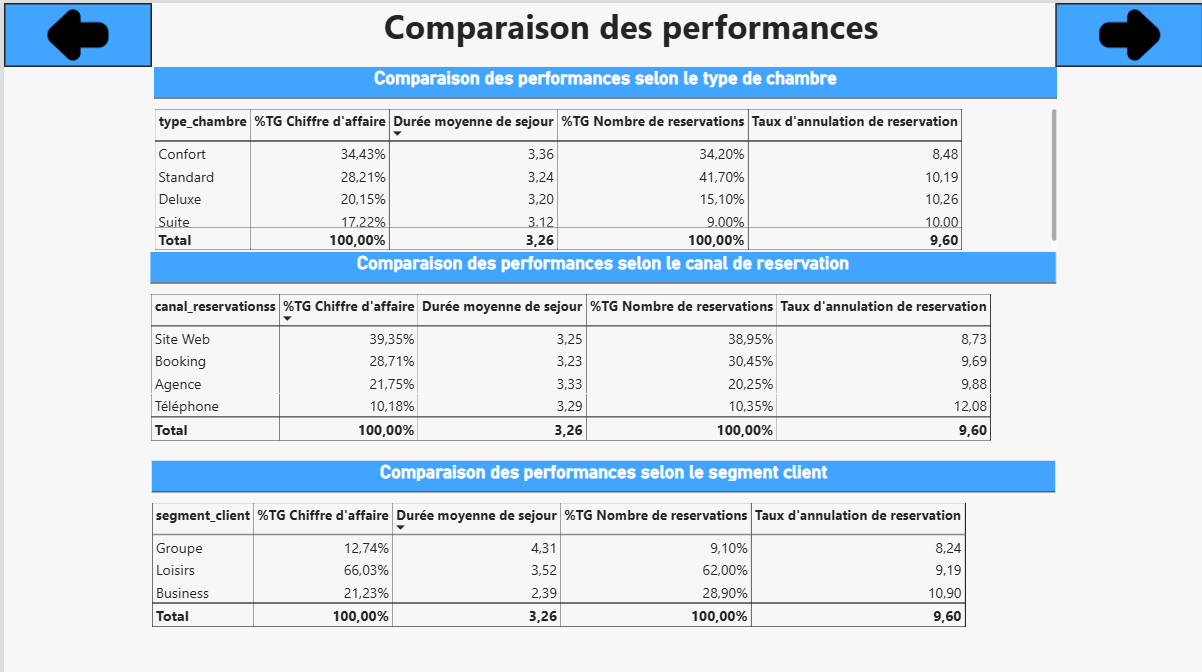

What the dashboard file says about the page in this screenshot:
{"tool":"powerbi","page":{"name":"Performance","canvas":[1920,1080],"ordinal":2},"visuals":[{"type":"tableEx","title":"Comparaison des performances selon le type de chambre","fields":{"Values":["public chambres.type_chambre","public reservations.Chiffre d'affaire","public reservations.Durée moyenne de sejour","public reservations.Nombre de reservations","public reservations.Taux d'annulation de reservation"]},"box":[238.7,102.9,1444.6,294.3],"z":0},{"type":"tableEx","title":"Comparaison des performances selon le canal de reservation","fields":{"Values":["public reservations.canal_reservationss","public reservations.Chiffre d'affaire","public reservations.Durée moyenne de sejour","public reservations.Nombre de reservations","public reservations.Taux d'annulation de reservation"]},"box":[234.6,397.2,1448.7,335.4],"z":1000},{"type":"tableEx","title":"Comparaison des performances selon le segment client","fields":{"Values":["public clients.segment_client","public reservations.Chiffre d'affaire","public reservations.Durée moyenne de sejour","public reservations.Nombre de reservations","public reservations.Taux d'annulation de reservation"]},"box":[236.7,732.6,1446.7,335.4],"z":2000},{"type":"image","box":[0,0,236.6,102.5],"z":3000},{"type":"textbox","box":[0,733,237,335],"z":4000},{"type":"textbox","box":[238.7,0,1531.1,102.9],"z":5000},{"type":"image","box":[1682,0,238,102],"z":5002}]}

Visuals, with their boxes in screenshot pixels (x1, y1, x2, y2), scaled from the page's 1920x1080 canvas onto the 1202x672 screenshot:
"Comparaison des performances selon le type de chambre" tableEx: BBox(149, 64, 1054, 247)
"Comparaison des performances selon le canal de reservation" tableEx: BBox(147, 247, 1054, 456)
"Comparaison des performances selon le segment client" tableEx: BBox(148, 456, 1054, 665)
image: BBox(0, 0, 148, 64)
textbox: BBox(0, 456, 148, 665)
textbox: BBox(149, 0, 1108, 64)
image: BBox(1053, 0, 1201, 63)
